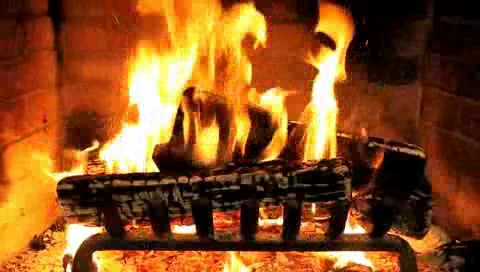fire: (104, 6, 352, 165)
